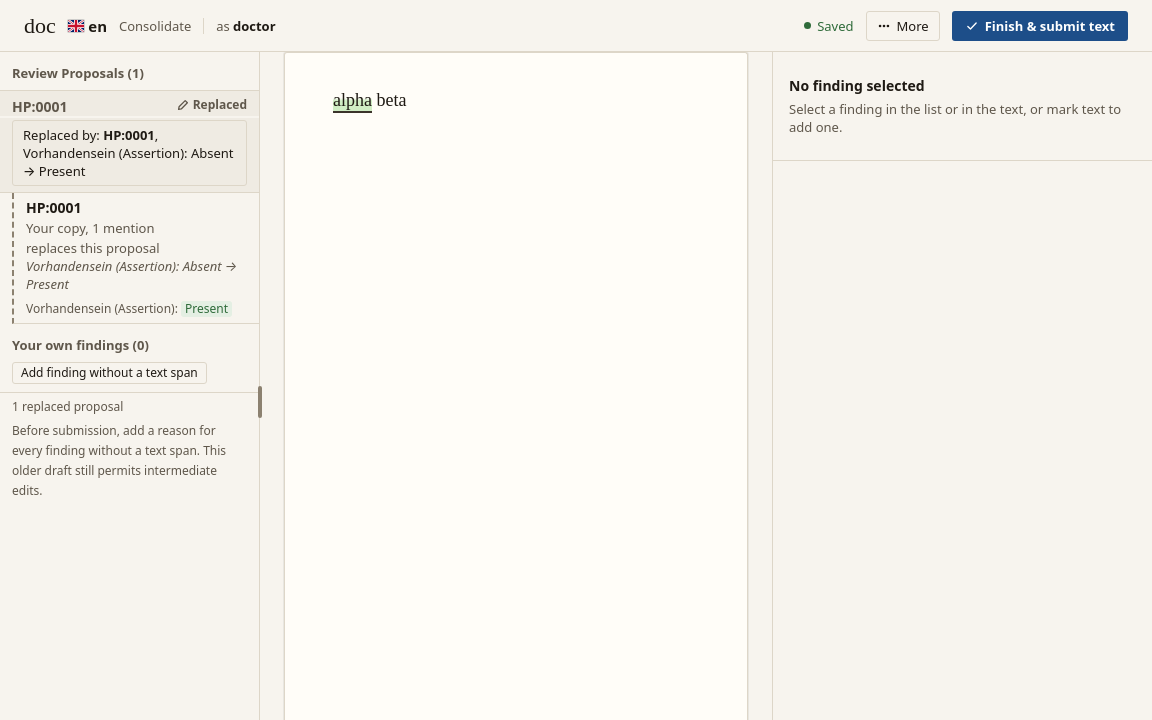
Test: Workflow Regressions › names what a same-term replacement changed and leads back to the proposal (#198)
Click the button with aria-label "Jump to replacement annotation in draft".
click(130, 153)  # box [12,120,247,186]
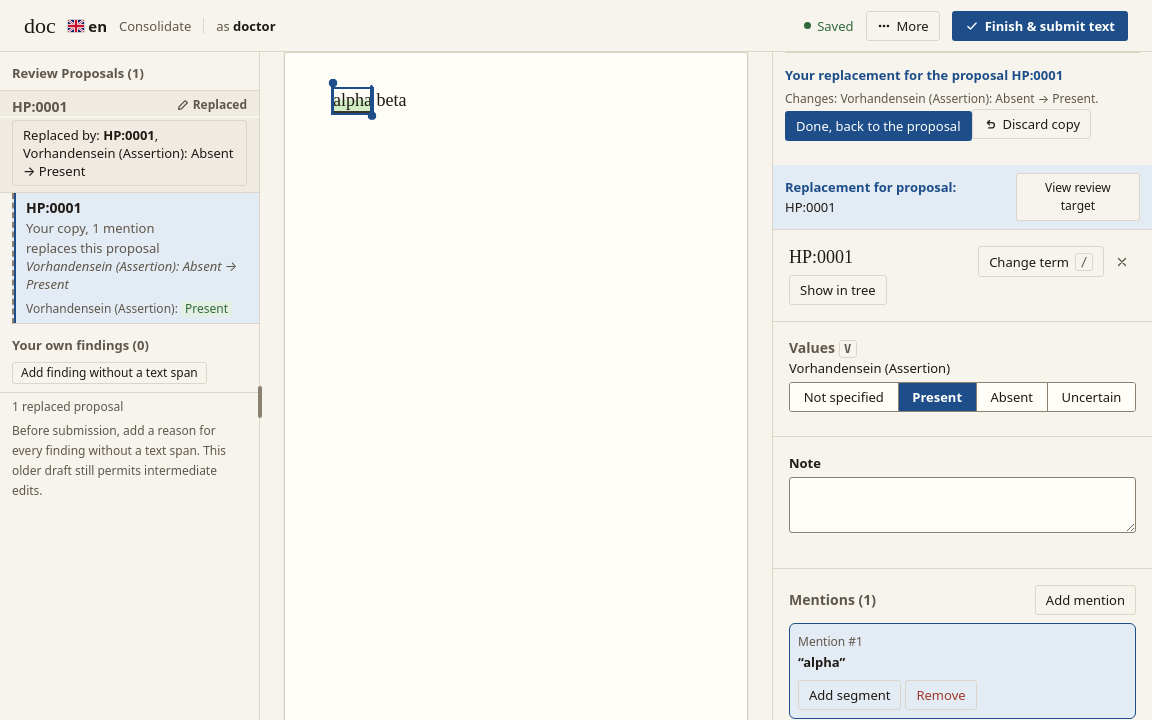
Check: the element that starts with "Your replacement for the proposal" shows "Your replacement for the proposal HP:0001", box [785,52,1140,153]
Check: the element that starts with "Your replacement for the proposal" shows "Absent → Present", box [785,90,1099,107]
Click the button "Done, back to the proposal".
click(878, 126)  # box [785,111,972,141]
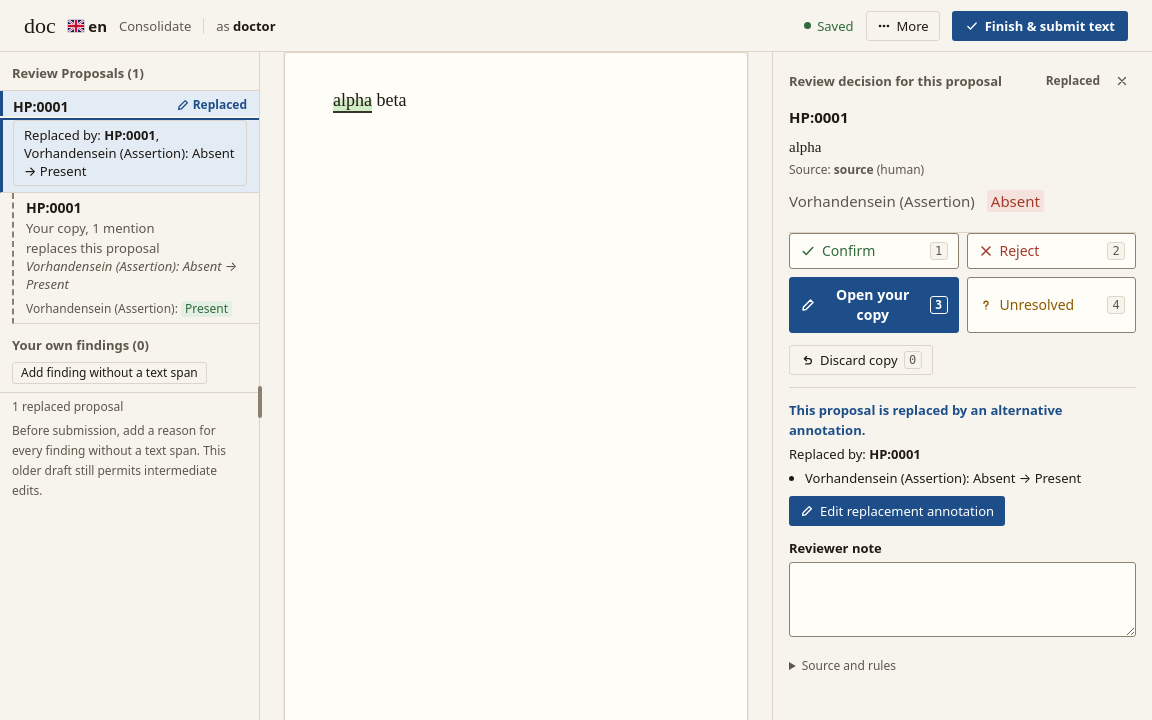
Check: the list named "Changes against the proposal" shows "Absent → Present", box [805,469,1081,487]
Check: the heading "Review decision for this proposal" is shown, box [789,72,1002,90]
